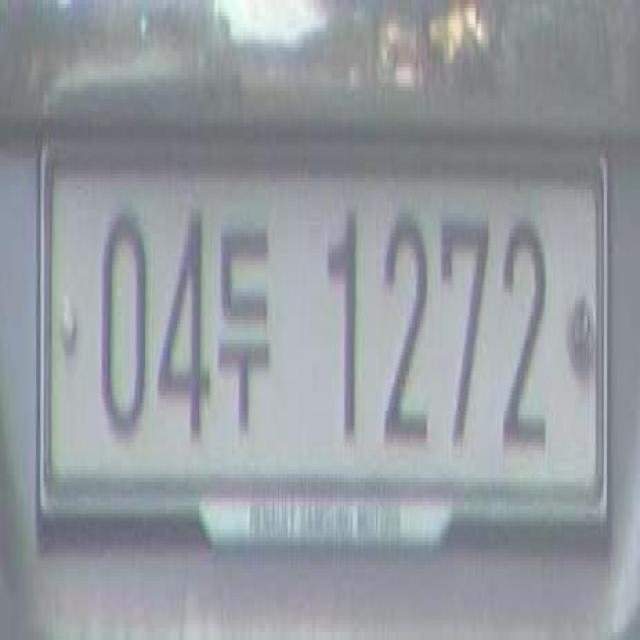illegal_plate: (42, 126, 616, 563)
